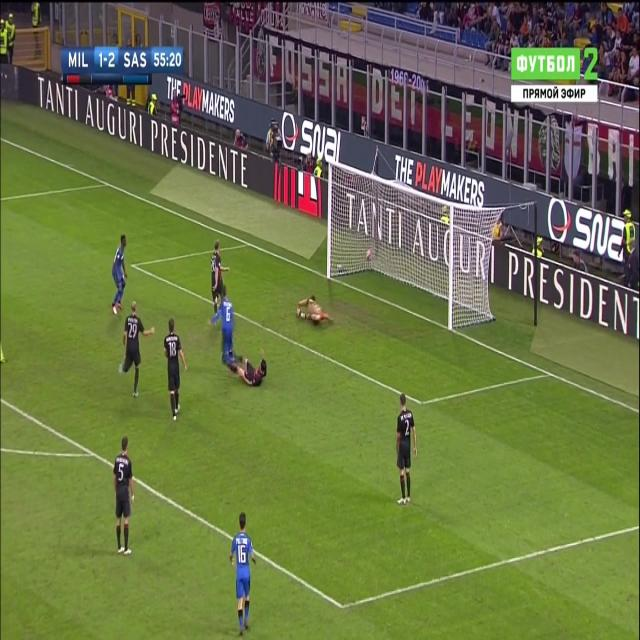Ball: (362, 244, 374, 267)
Goalkeeper: (295, 289, 335, 328)
Player: (119, 302, 156, 402), (228, 509, 256, 638), (394, 391, 421, 504), (113, 435, 136, 559), (162, 318, 188, 424), (207, 297, 237, 366), (209, 240, 231, 318), (109, 232, 129, 316), (228, 355, 271, 391)
